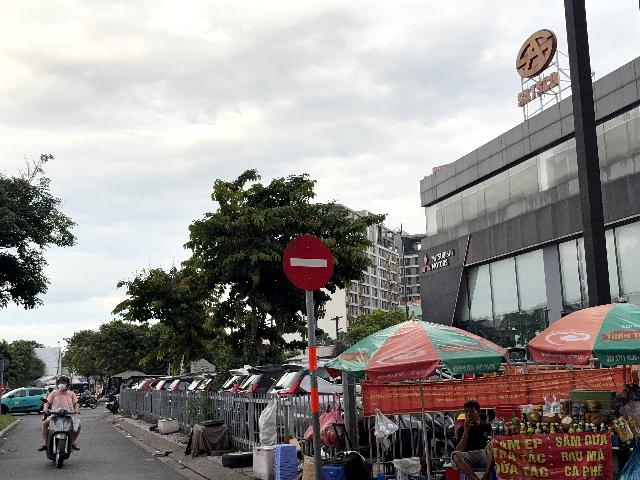cam-di-nguoc-chieu: (283, 237, 334, 291)
